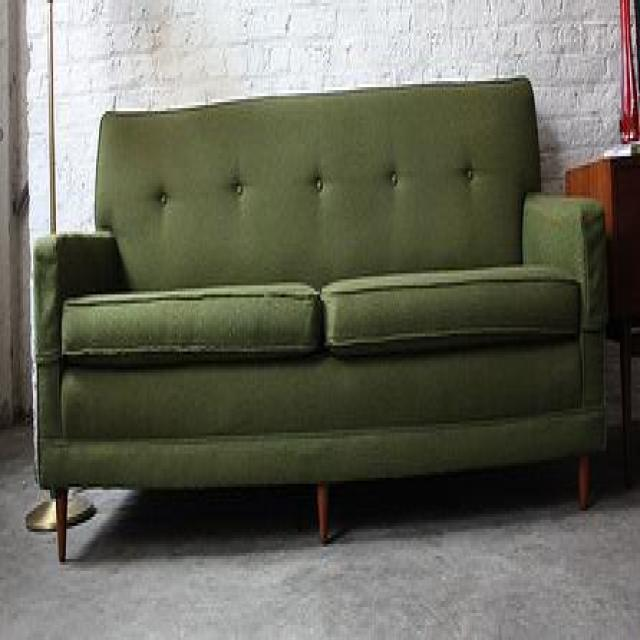sofa: (30, 71, 610, 568)
